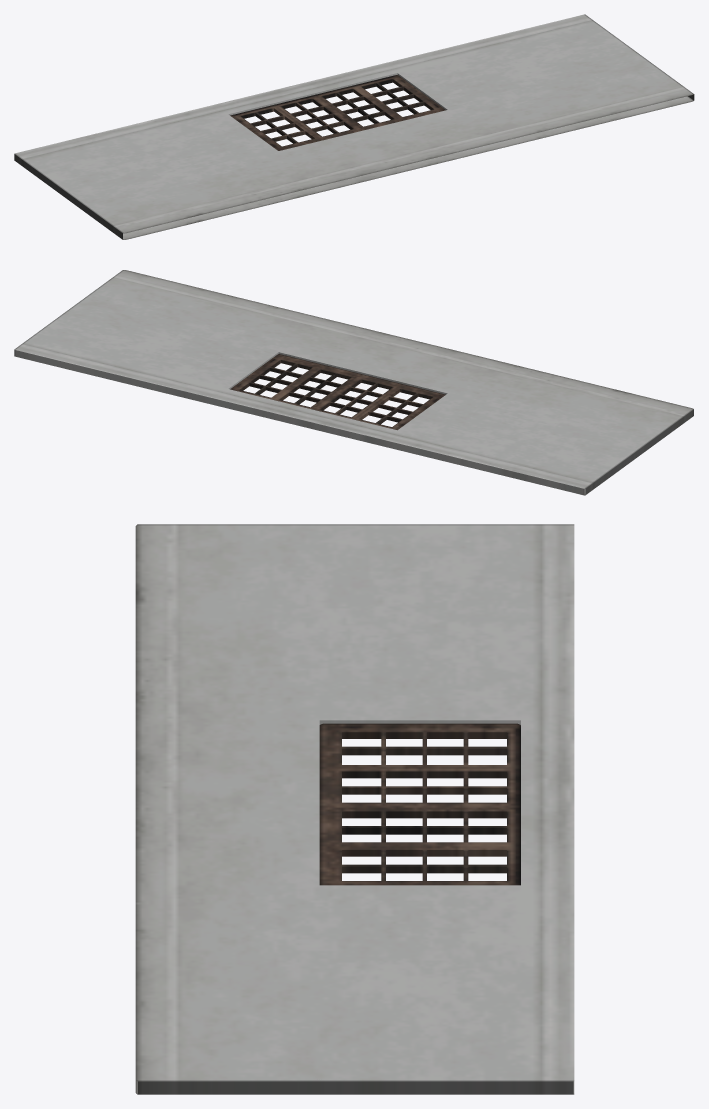
The model's file is SM_EC_House_Wall_Window_2_9x3_2.fbx.
The picture shows the model from 3 angles, top to bottom: view 1: azimuth 30°, elevation 25°; view 2: azimuth 150°, elevation 25°; view 3: azimuth 270°, elevation 25°; orthographic projection. The views are drawn at different scales.
Parts seen in each view (by area): view 1: SM_EC_House_Wall_Window_2_9x3_2; view 2: SM_EC_House_Wall_Window_2_9x3_2; view 3: SM_EC_House_Wall_Window_2_9x3_2.
Part boxes in pixels (box(x1,y1,x2,y2)): SM_EC_House_Wall_Window_2_9x3_2: box(14, 14, 694, 239); SM_EC_House_Wall_Window_2_9x3_2: box(14, 270, 693, 495); SM_EC_House_Wall_Window_2_9x3_2: box(135, 524, 574, 1094).
Size of the model in its own units: 9 by 3 by 0.1.
